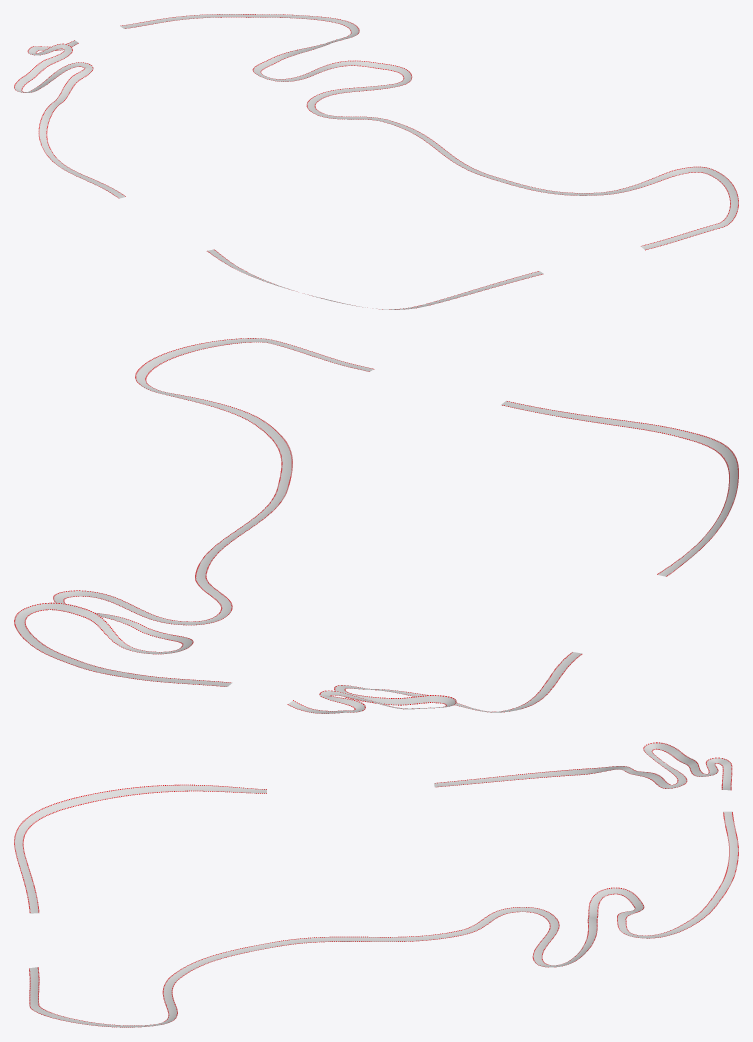
File: TRACK 1.fbx
3 renders of one model, top to bottom at view 1: azimuth 30°, elevation 25°; view 2: azimuth 150°, elevation 25°; view 3: azimuth 270°, elevation 25°, orthographic. The views are drawn at different scales.
Parts seen in each view (by area): view 1: Plane, Plane.001, Plane.002; view 2: Plane, Plane.002, Plane.001; view 3: Plane, Plane.001, Plane.002.
Boxes of the visible parts, left/top/right/bottom form: Plane: left=120, top=14, right=738, bottom=250; Plane.001: left=14, top=40, right=125, bottom=198; Plane.002: left=207, top=249, right=543, bottom=309; Plane: left=14, top=338, right=374, bottom=686; Plane.002: left=501, top=400, right=738, bottom=576; Plane.001: left=287, top=652, right=582, bottom=713; Plane: left=29, top=811, right=738, bottom=1027; Plane.001: left=434, top=742, right=732, bottom=790; Plane.002: left=14, top=784, right=266, bottom=913.
Bounding box in the file's own units: 71132 × 6232 × 83537.
